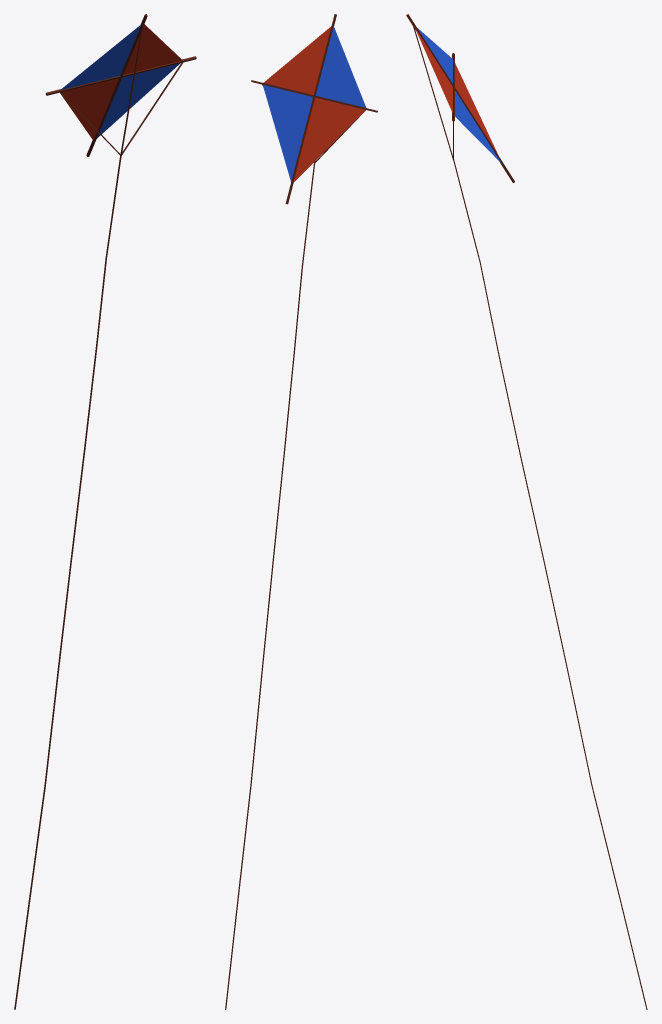
Rendered from Kite.glb.
3 views of the same model, side by side, from view 1: azimuth 30°, elevation 25°; view 2: azimuth 150°, elevation 25°; view 3: azimuth 270°, elevation 25° (orthographic). The views are drawn at different scales.
Parts seen in each view (by area): view 1: Cube.001; view 2: Cube.001; view 3: Cube.001.
Part boxes in pixels (box(x1,y1,x2,y2)): Cube.001: box(14, 14, 196, 1009); Cube.001: box(225, 14, 377, 1009); Cube.001: box(406, 14, 647, 1009).
Bounding box in the file's own units: 2.4 × 16.72 × 3.67.
